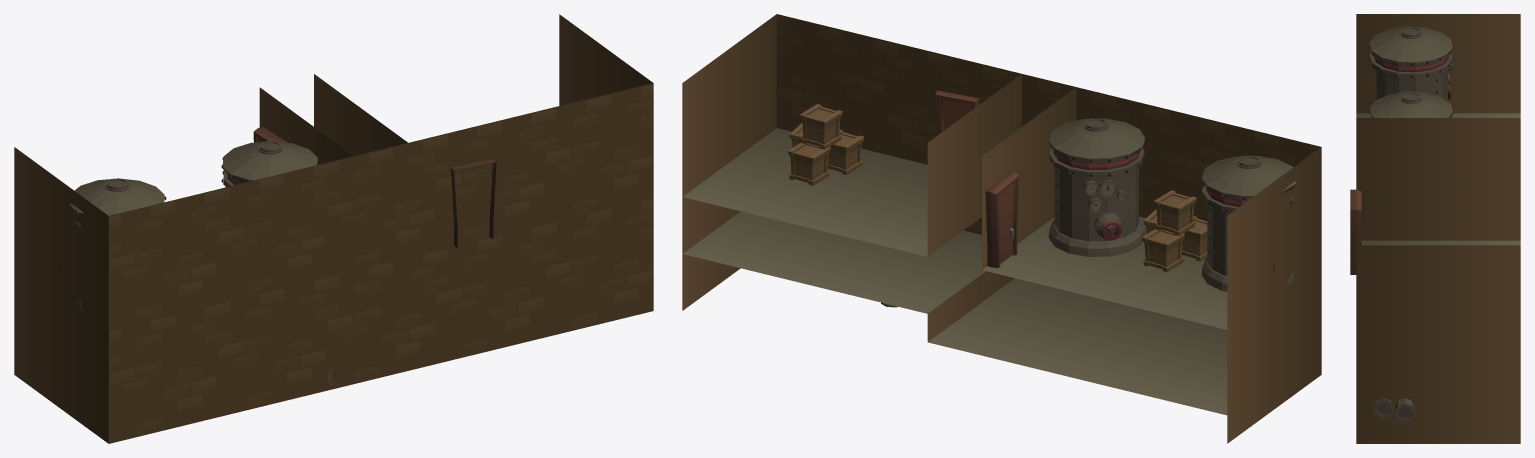
File: Room21_8x20.fbx
The picture shows the model from 3 angles, left to right: view 1: azimuth 30°, elevation 25°; view 2: azimuth 150°, elevation 25°; view 3: azimuth 270°, elevation 25°; orthographic projection. The views are drawn at different scales.
Visible parts, largest first — view 1: Room21_8x20; view 2: Room21_8x20; view 3: Room21_8x20.
Part boxes in pixels (box(x1,y1,x2,y2)): Room21_8x20: box(14, 14, 653, 443); Room21_8x20: box(682, 14, 1321, 443); Room21_8x20: box(1350, 14, 1520, 443).
Bounding box in the file's own units: 2067 × 622 × 819.
